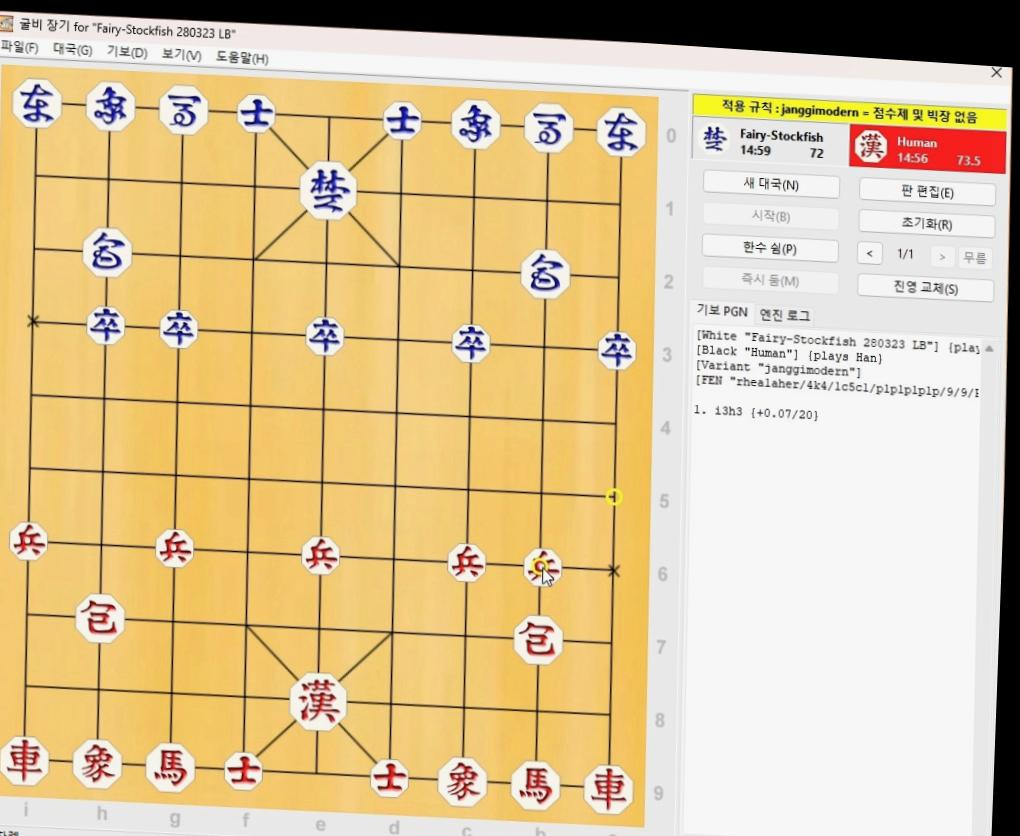cha_green: (10, 75, 63, 128), (592, 105, 645, 156)
cha_red: (581, 762, 631, 816), (0, 733, 48, 784)
jol_green: (156, 308, 198, 347), (451, 323, 493, 362), (305, 316, 348, 354), (83, 306, 124, 345), (595, 329, 637, 366)
jol_red: (5, 521, 49, 560), (520, 546, 563, 585), (153, 529, 196, 568), (300, 536, 342, 574), (443, 543, 485, 581)
ma_green: (522, 102, 576, 152), (159, 85, 211, 132)
ma_red: (511, 757, 563, 807), (146, 741, 195, 791)
po_green: (520, 248, 574, 297), (81, 229, 133, 277)
po_red: (74, 590, 126, 644), (512, 610, 563, 663)
sa_green: (233, 94, 275, 133), (381, 102, 424, 139)
sa_red: (223, 750, 267, 791), (369, 758, 413, 795)
sang_green: (85, 80, 137, 131), (447, 99, 499, 149)
sang_red: (435, 756, 489, 806), (70, 738, 123, 788)
wang_green: (298, 159, 358, 217)
wang_red: (286, 673, 347, 729)
